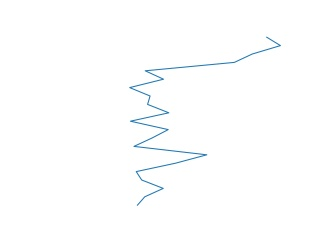crevasseRiverChannelBar: (124, 33, 285, 209)
